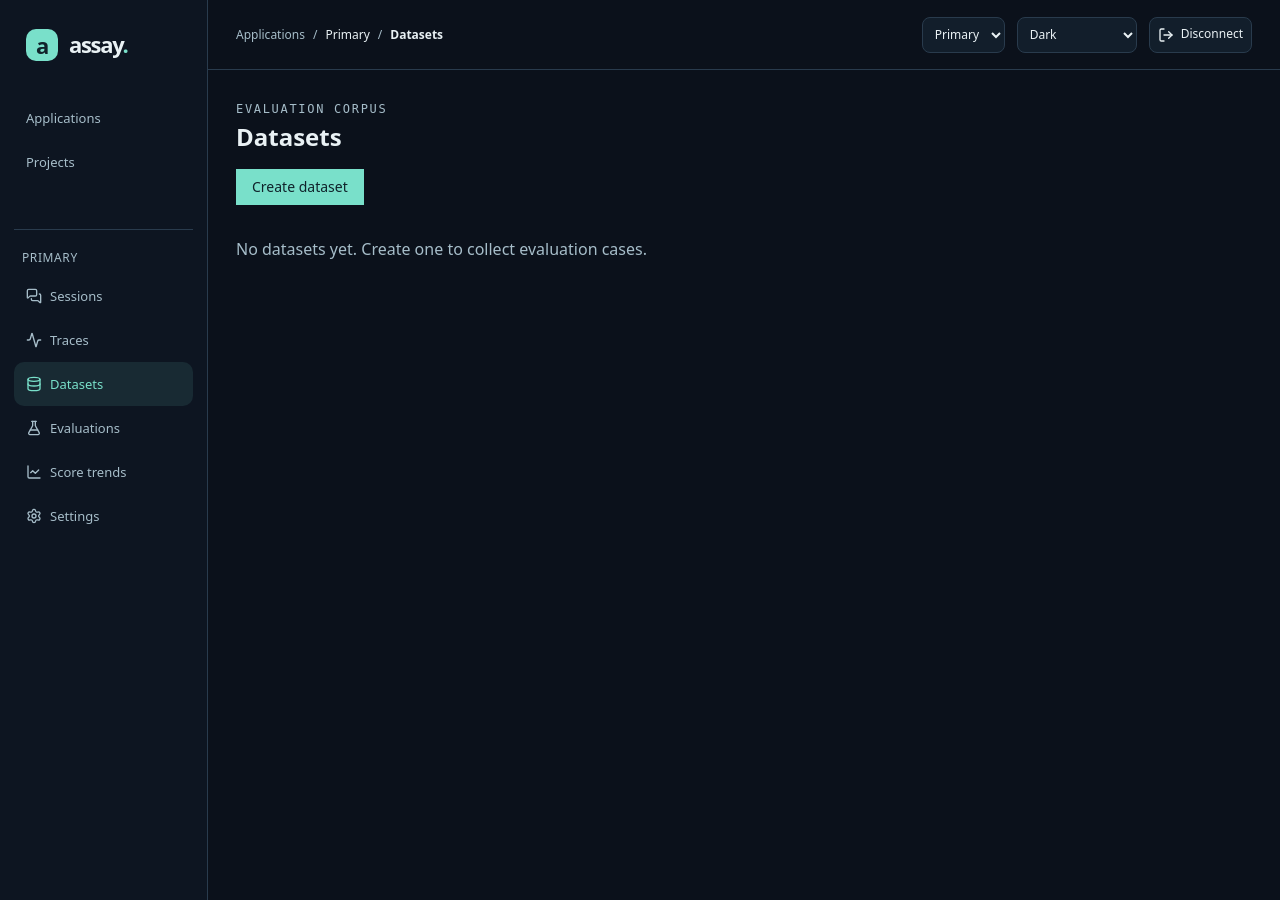
preserves dataset input after a server error and allows cancellation
Click the button "Create dataset".
click(300, 187)  # box [236, 169, 364, 205]
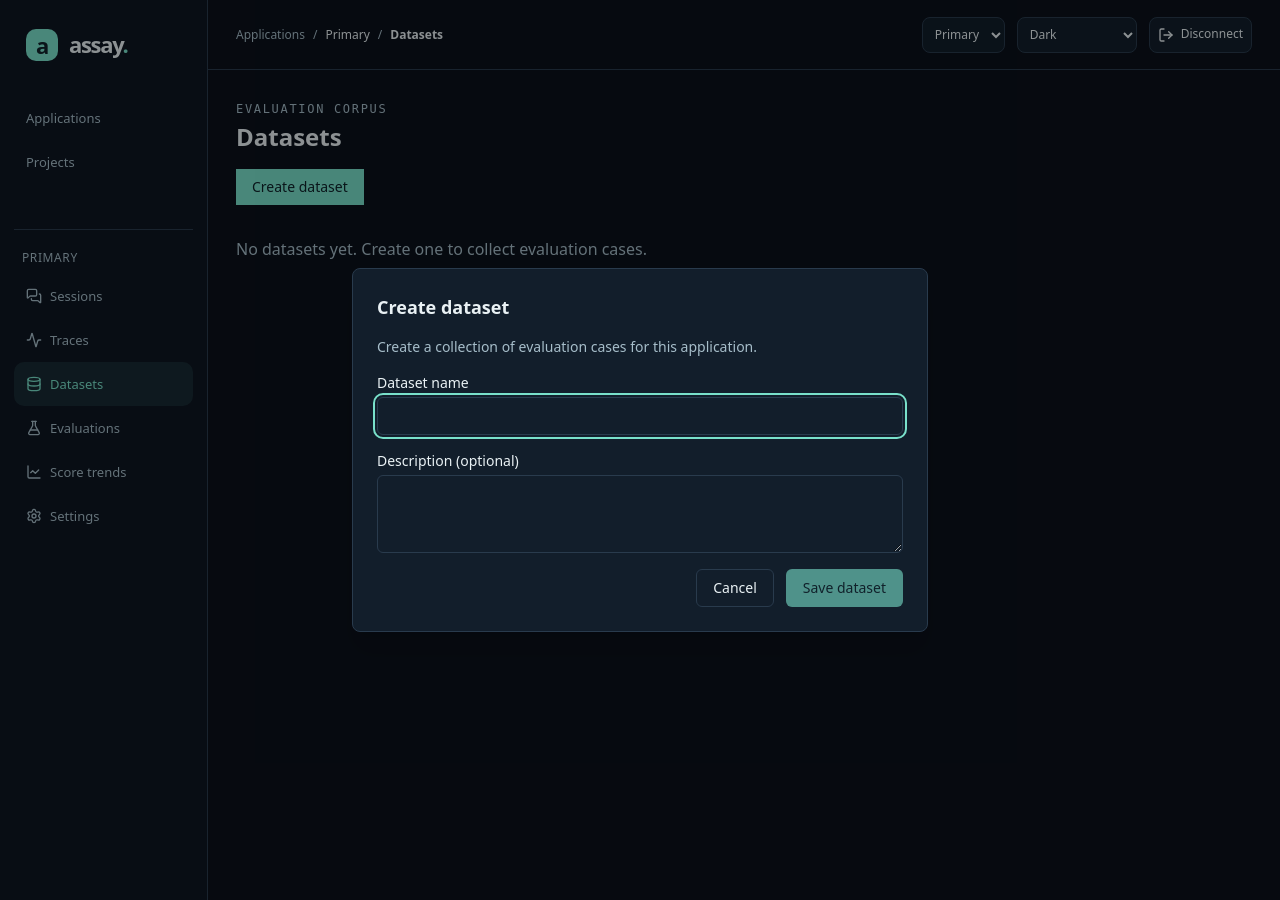
Type "My cases" into the field labelled "Dataset name".
click(640, 416); type("My cases")  # box [377, 397, 903, 435]
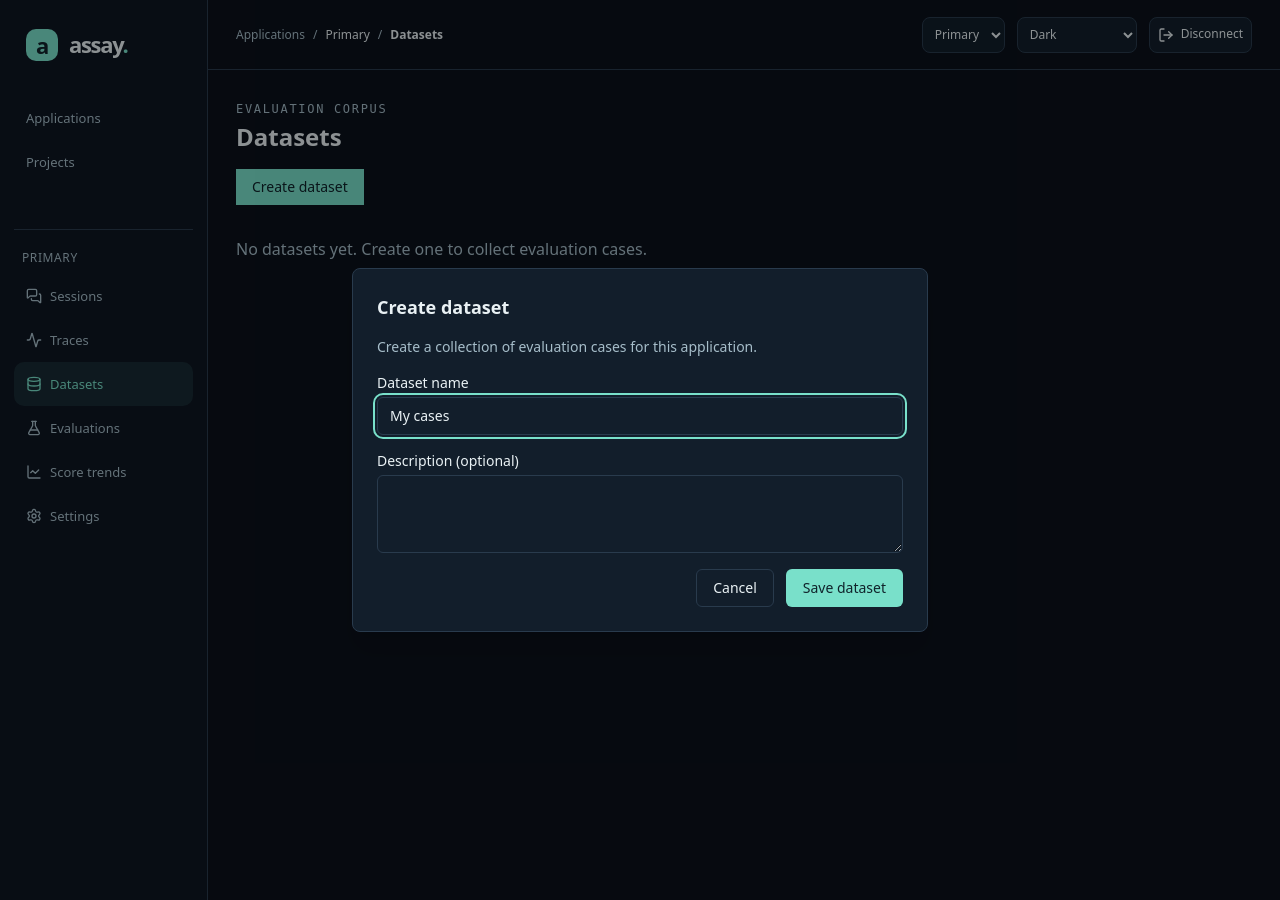
Click the button "Save dataset".
click(844, 588)  # box [786, 569, 903, 607]
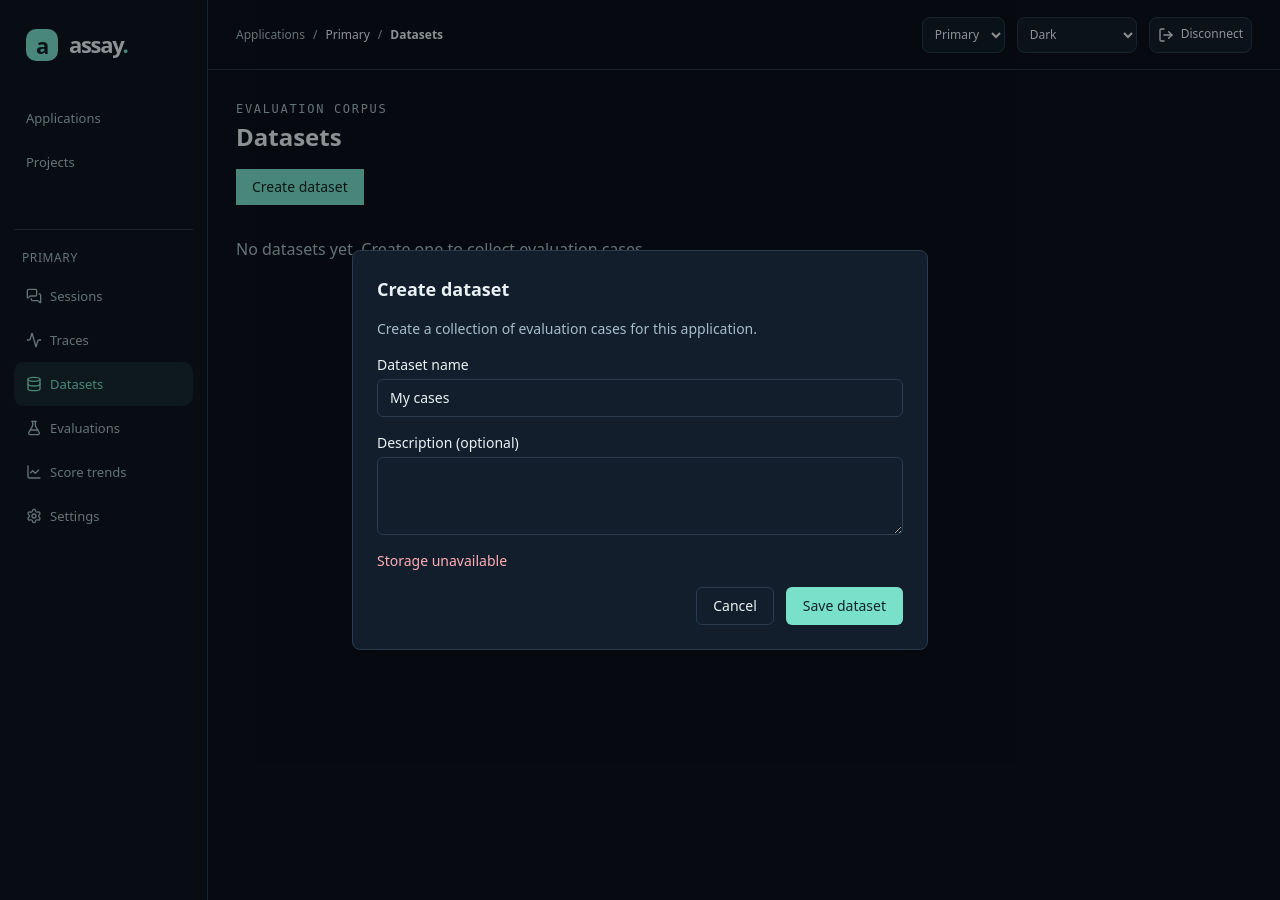
Result: the message reads "Storage unavailable" at [377, 551, 507, 570]
Click the button "Cancel".
click(735, 606)  # box [696, 587, 774, 625]
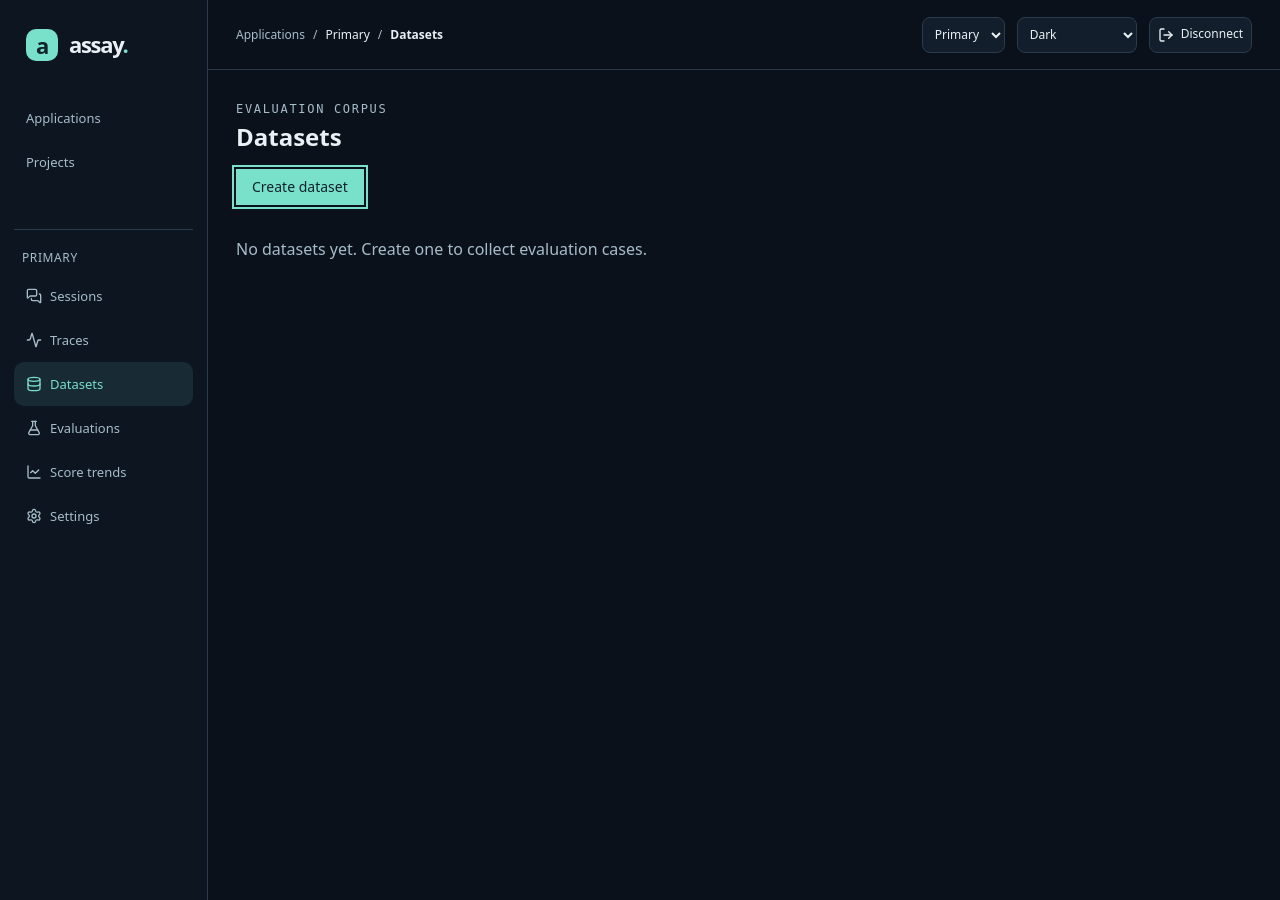
Result: the text labelled "Dataset name" is gone
